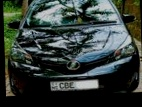car: (6, 0, 142, 96)
